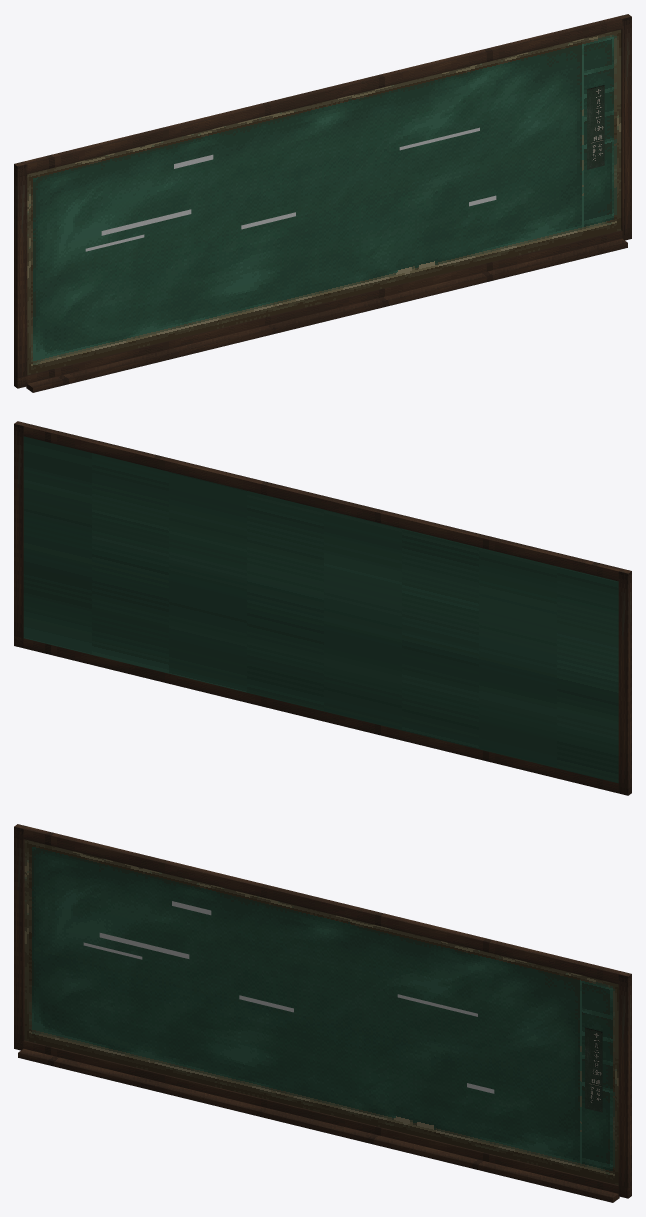
Rendered from prop_blackboard-large-2.glb.
3 views of the same model, one above another, from view 1: azimuth 30°, elevation 25°; view 2: azimuth 150°, elevation 25°; view 3: azimuth 330°, elevation 25° (orthographic).
Visible parts, largest first — view 1: prop_blackboard-large-2; view 2: prop_blackboard-large-2; view 3: prop_blackboard-large-2.
Boxes of the visible parts, <box> form: prop_blackboard-large-2: <box>14,14,631,392</box>; prop_blackboard-large-2: <box>14,421,631,795</box>; prop_blackboard-large-2: <box>14,824,631,1202</box>.
Bounding box in the file's own units: 3.82 × 1.34 × 0.1.
4 materials, 4 textured.
